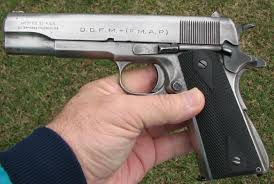Arma Real: (3, 10, 274, 178)
